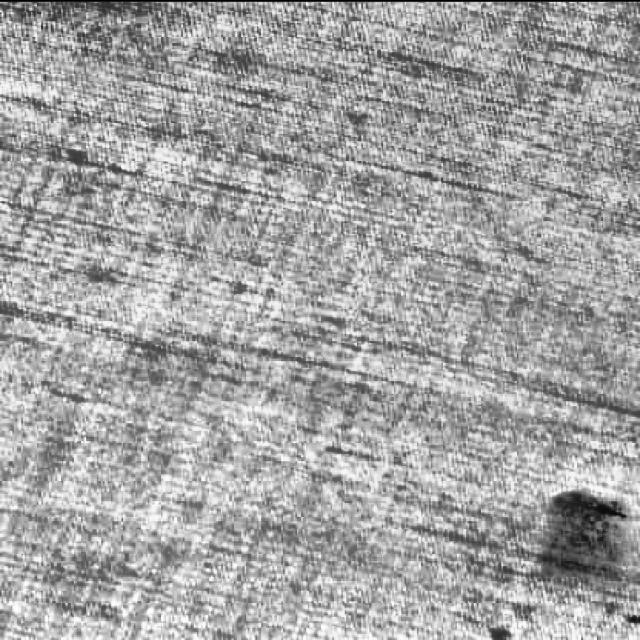oil_spot: (514, 473, 640, 602)
